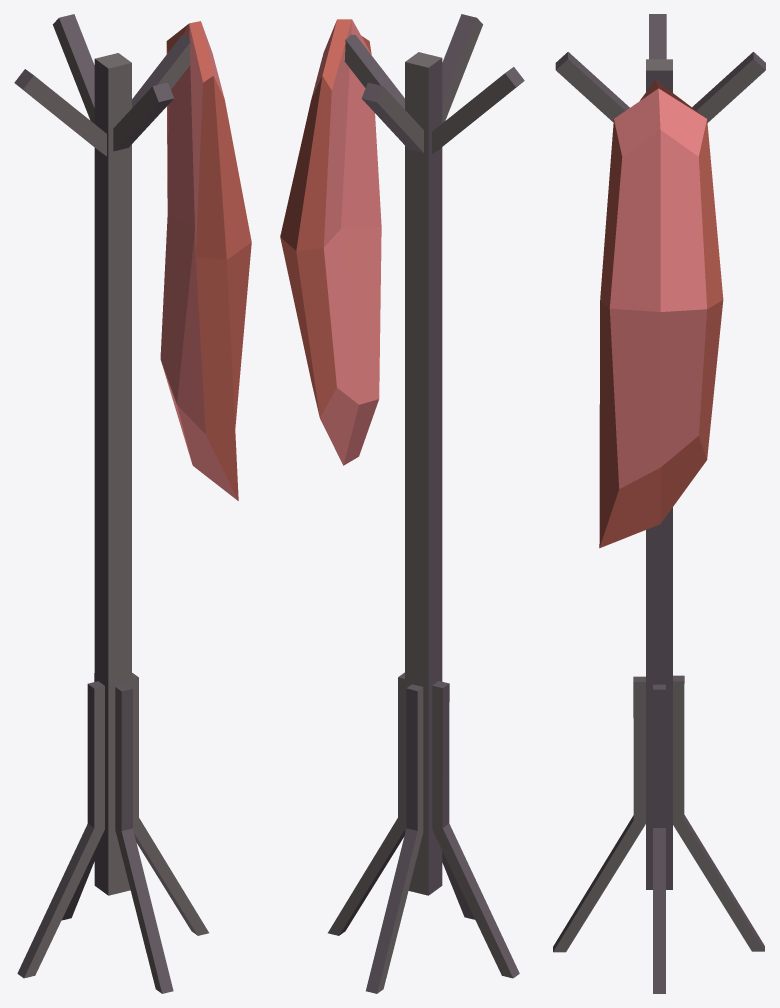
Rendered from Coat Hanger.fbx.
3 views of the same model, side by side, from view 1: azimuth 30°, elevation 25°; view 2: azimuth 150°, elevation 25°; view 3: azimuth 270°, elevation 25° (orthographic).
Visible parts, largest first — view 1: Coat Hanger; view 2: Coat Hanger; view 3: Coat Hanger.
Part boxes in pixels (x1=…): Coat Hanger: x1=14, y1=14, x2=251, y2=993; Coat Hanger: x1=280, y1=14, x2=524, y2=993; Coat Hanger: x1=553, y1=14, x2=765, y2=993.
Bounding box in the file's own units: 91.82 × 363 × 77.36.
